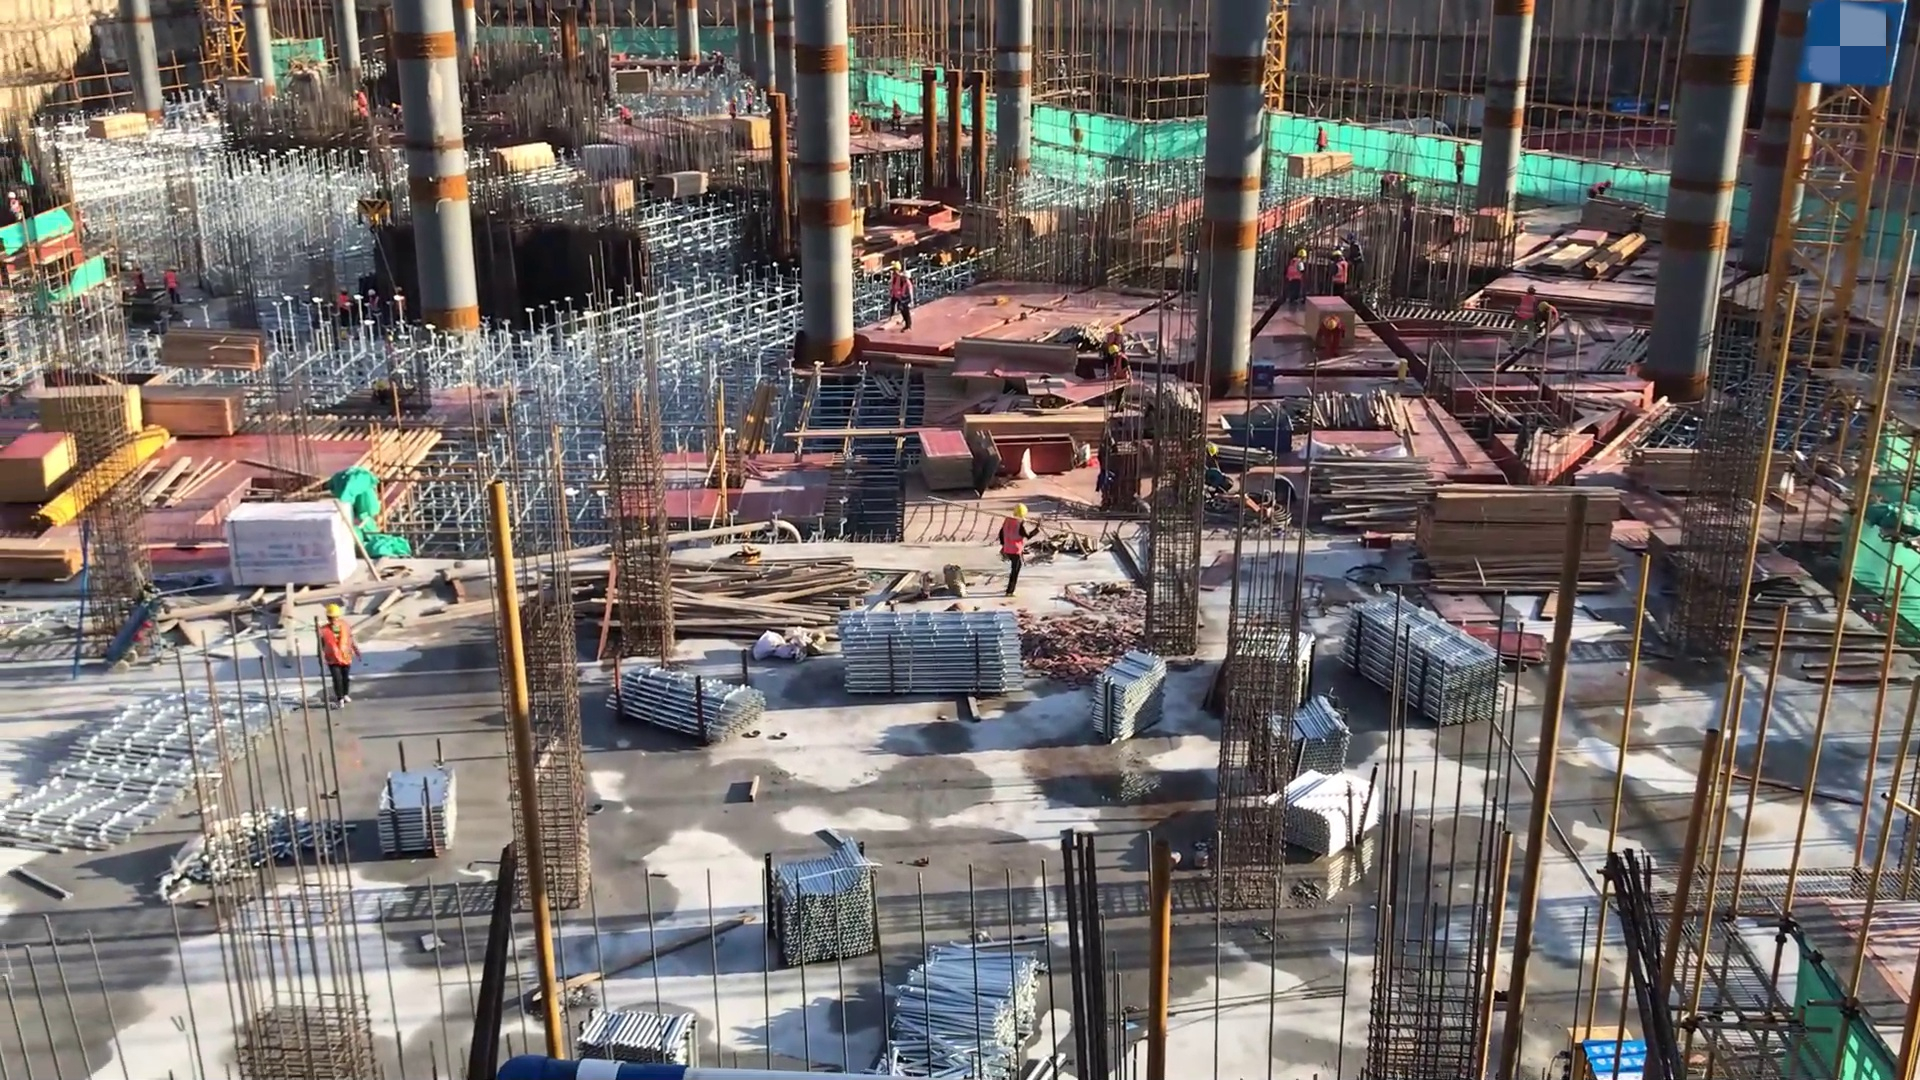board: (39, 384, 139, 456), (1, 430, 80, 513), (1455, 621, 1548, 673), (914, 424, 983, 494)
helmet: (1009, 498, 1029, 520), (325, 601, 344, 619), (1205, 440, 1218, 463), (1108, 341, 1123, 358), (1113, 320, 1126, 337), (1325, 318, 1339, 332), (1295, 247, 1309, 259), (1526, 283, 1540, 295), (902, 268, 914, 278), (368, 288, 377, 298)
hook: (1223, 413, 1301, 463)
person: (991, 495, 1044, 601), (315, 598, 359, 713), (1507, 280, 1541, 354), (1108, 338, 1133, 422), (1280, 247, 1314, 309), (1323, 246, 1352, 307), (1315, 315, 1347, 358), (1348, 226, 1368, 290), (162, 263, 188, 310), (886, 256, 905, 323), (898, 267, 918, 329), (1307, 119, 1333, 162), (389, 285, 411, 331), (1582, 177, 1614, 208), (1375, 169, 1405, 200), (366, 287, 385, 336), (6, 187, 28, 228), (1539, 296, 1561, 333), (617, 99, 637, 138), (1452, 138, 1467, 188), (335, 286, 351, 328), (747, 79, 759, 118), (349, 83, 367, 112), (133, 260, 147, 297), (730, 93, 739, 132)
scaffold: (876, 934, 1065, 1080), (1345, 580, 1504, 734), (847, 601, 1043, 703), (762, 853, 902, 973), (601, 661, 751, 744), (1079, 638, 1170, 753), (573, 999, 713, 1069), (1259, 689, 1348, 789)
vest: (319, 619, 358, 671), (1000, 517, 1030, 565), (1110, 352, 1134, 389), (1515, 295, 1538, 324), (1330, 260, 1351, 287), (1287, 256, 1305, 283), (1349, 240, 1368, 267), (899, 276, 913, 309)
wood: (1410, 487, 1630, 596), (671, 545, 867, 641), (1310, 449, 1443, 537), (1628, 447, 1802, 496), (138, 382, 249, 438), (960, 407, 1107, 448), (159, 322, 268, 367), (1, 533, 85, 579), (484, 137, 558, 182), (88, 107, 150, 146), (1288, 150, 1356, 181), (657, 166, 708, 202)
